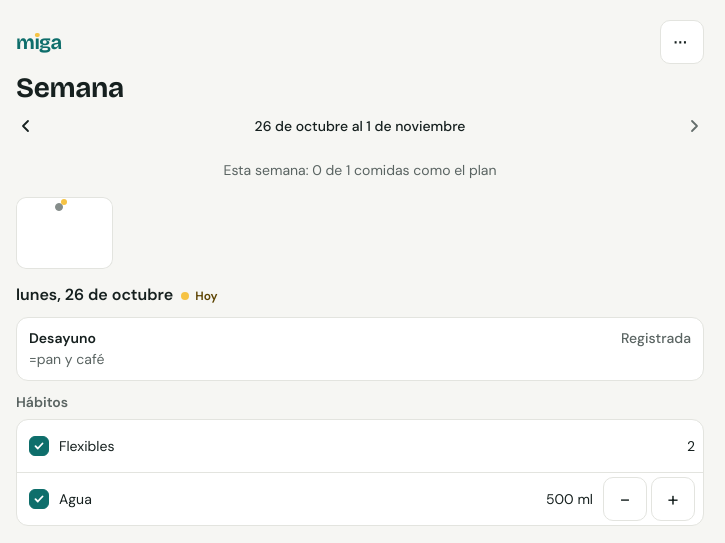
Planilla muestra la grilla con el texto escrito y los hábitos
Click the button named "Más opciones de la semana": x=682, y=42 660,20 -> 704,64
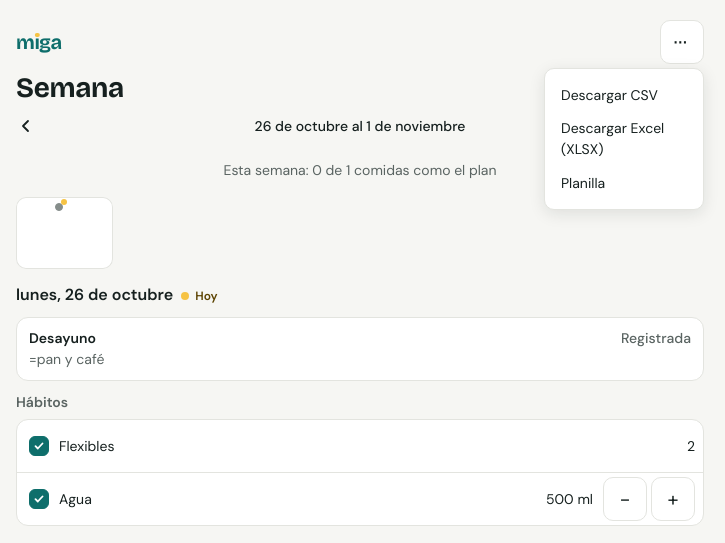
Click the menu item "Planilla": x=624, y=183 549,161 -> 699,205
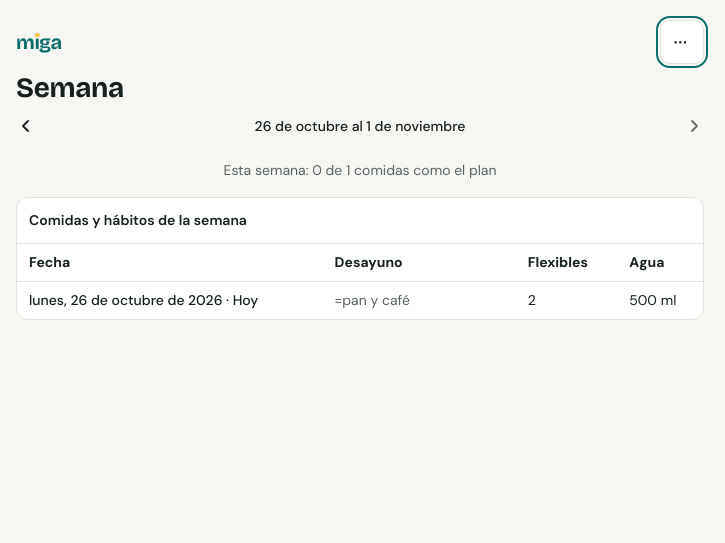
Expected: the column heading "Desayuno" is shown, 323,244 -> 516,282
Now the table is shown, box 17,198 -> 703,319
Now the cell "2" is shown, box 516,282 -> 617,319
